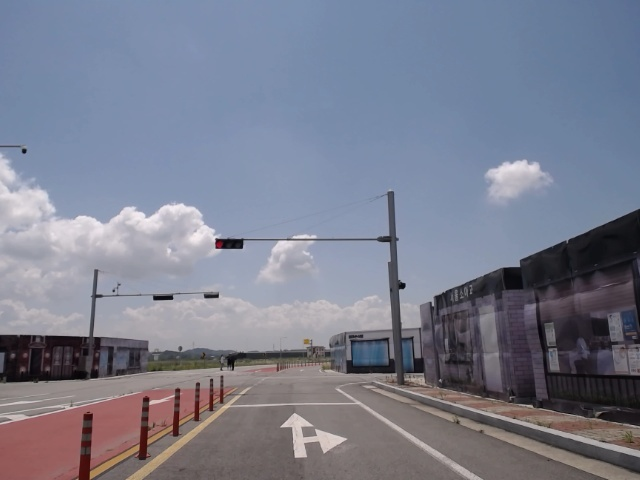red_3: (213, 238, 243, 249)
